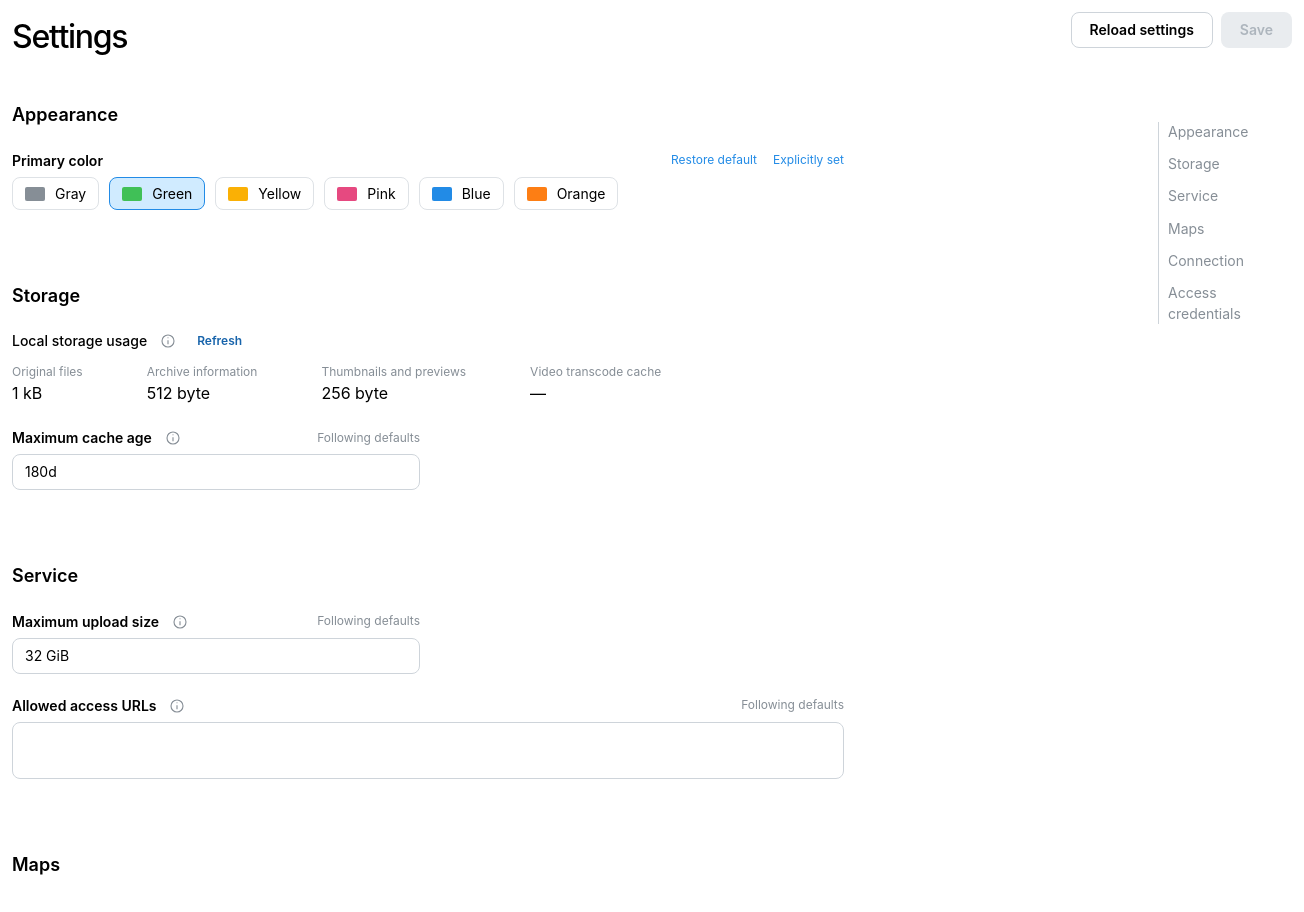
Scenario: keeps edits on conflict and does not retry the write
Click the radio button labelled "Orange" at point(566, 194), box [514,177,618,210]
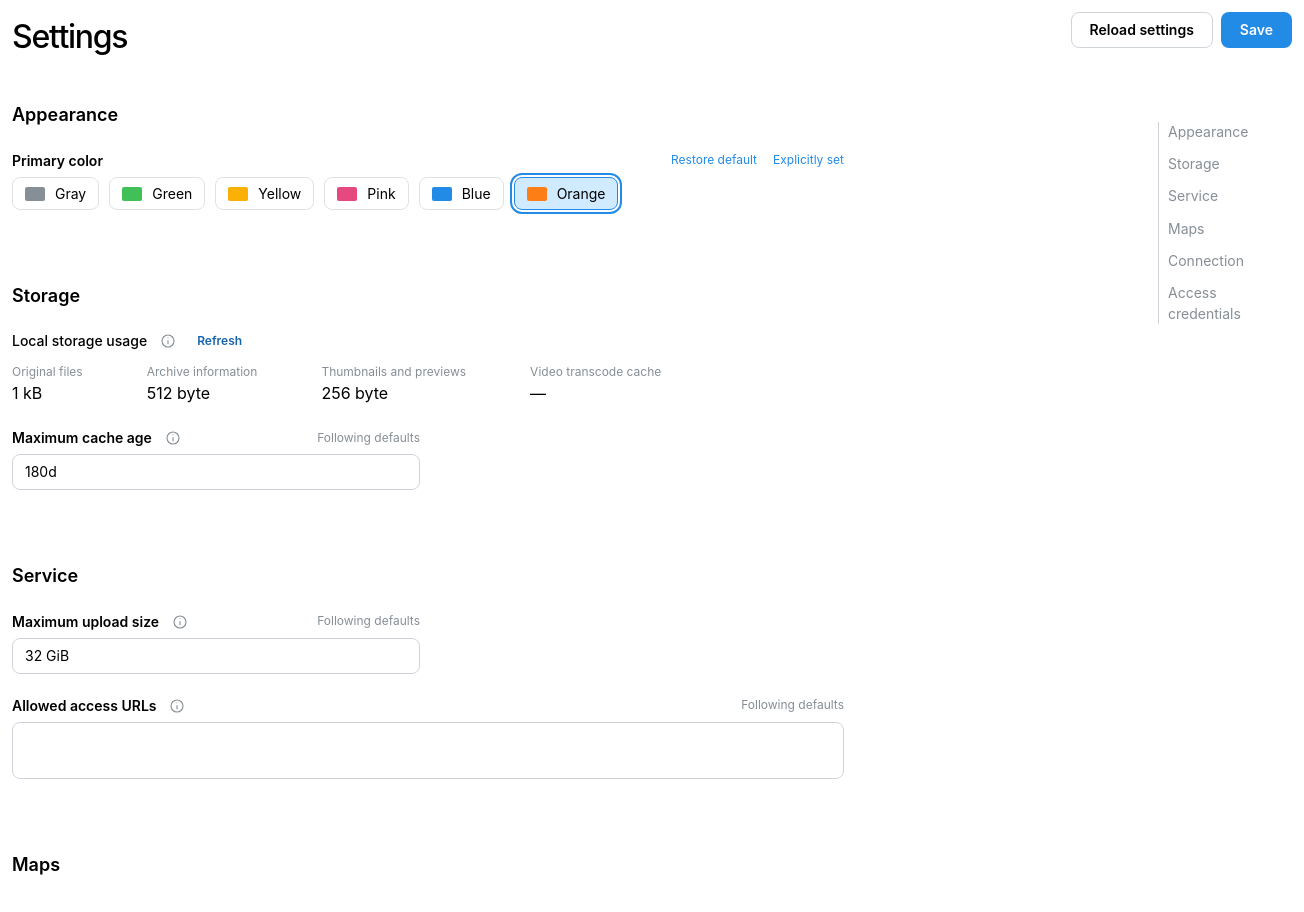
Click the button "Save" at point(1256, 30), box [1221,12,1292,48]
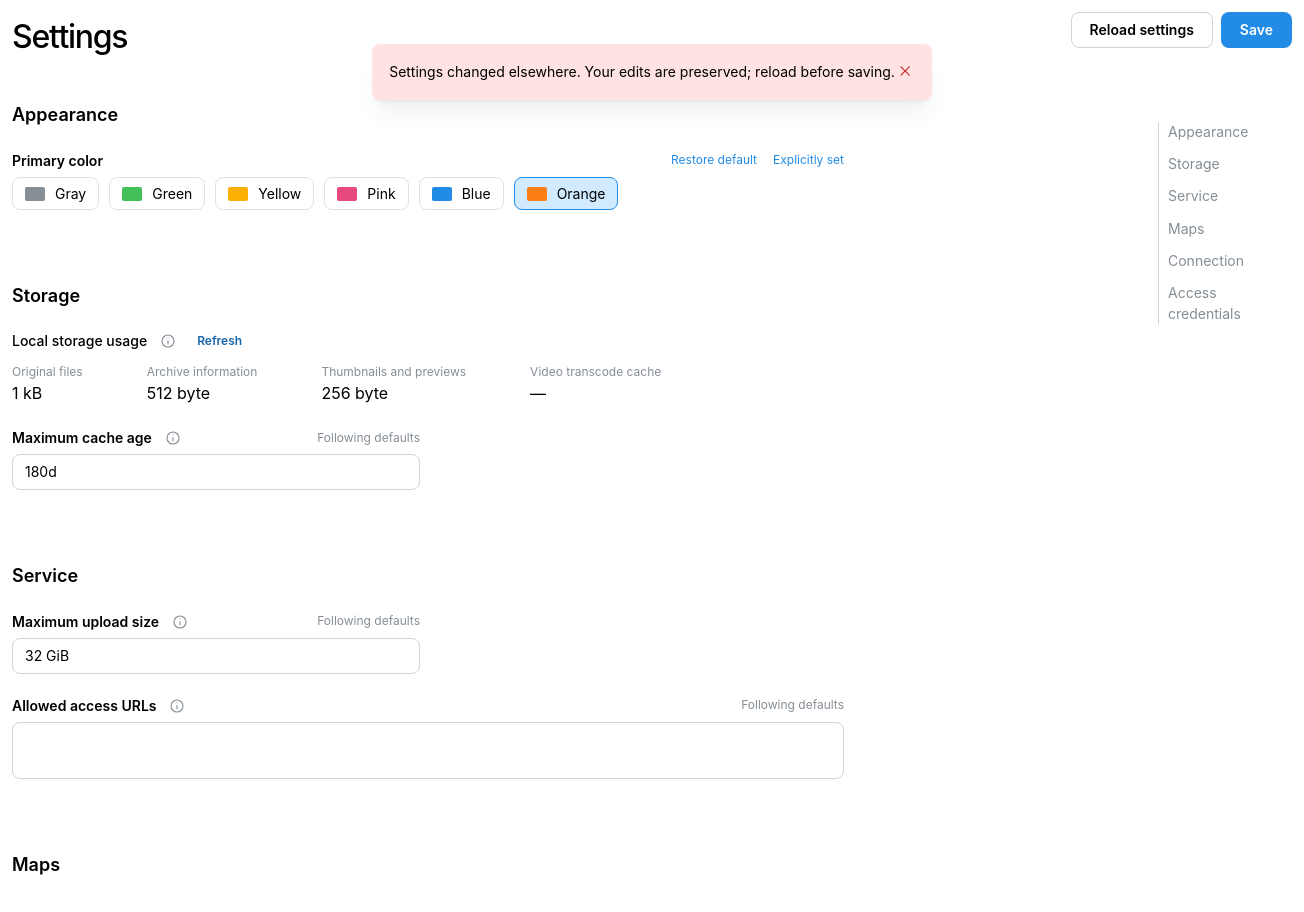
Expected: the radio button labelled "Orange" is checked, [514,177,618,210]
Expected: the message shows "Settings changed", [389,63,895,80]
